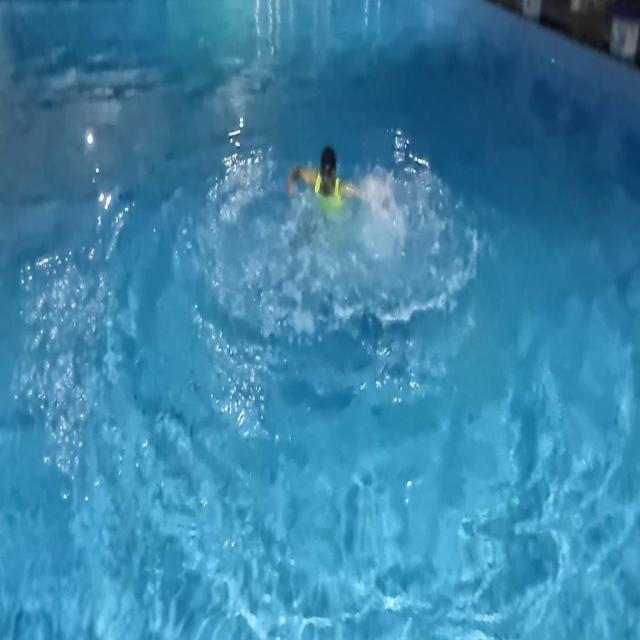Swimming: (265, 119, 439, 318)
